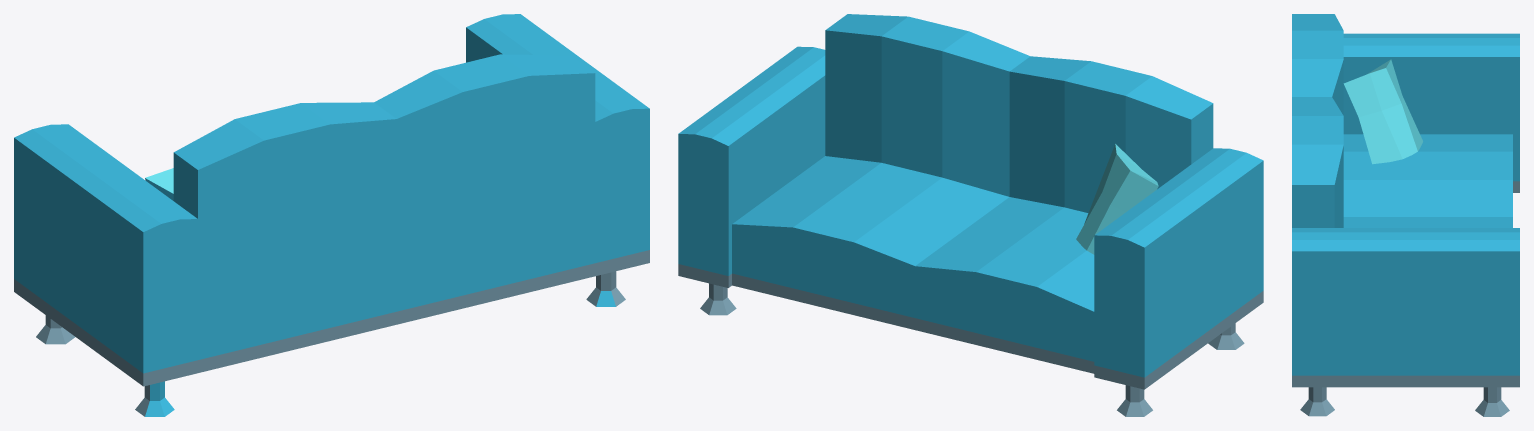
Rendered from Sofa.1.fbx.
3 views of the same model, side by side, from view 1: azimuth 30°, elevation 25°; view 2: azimuth 150°, elevation 25°; view 3: azimuth 270°, elevation 25° (orthographic). The views are drawn at different scales.
Parts seen in each view (by area): view 1: Sofa_1; view 2: Sofa_1; view 3: Sofa_1.
Part boxes in pixels (bbox=[...]): Sofa_1: bbox=[14, 14, 649, 416]; Sofa_1: bbox=[678, 14, 1263, 416]; Sofa_1: bbox=[1292, 14, 1519, 416].
Size of the model in its own units: 530 by 257 by 234.
